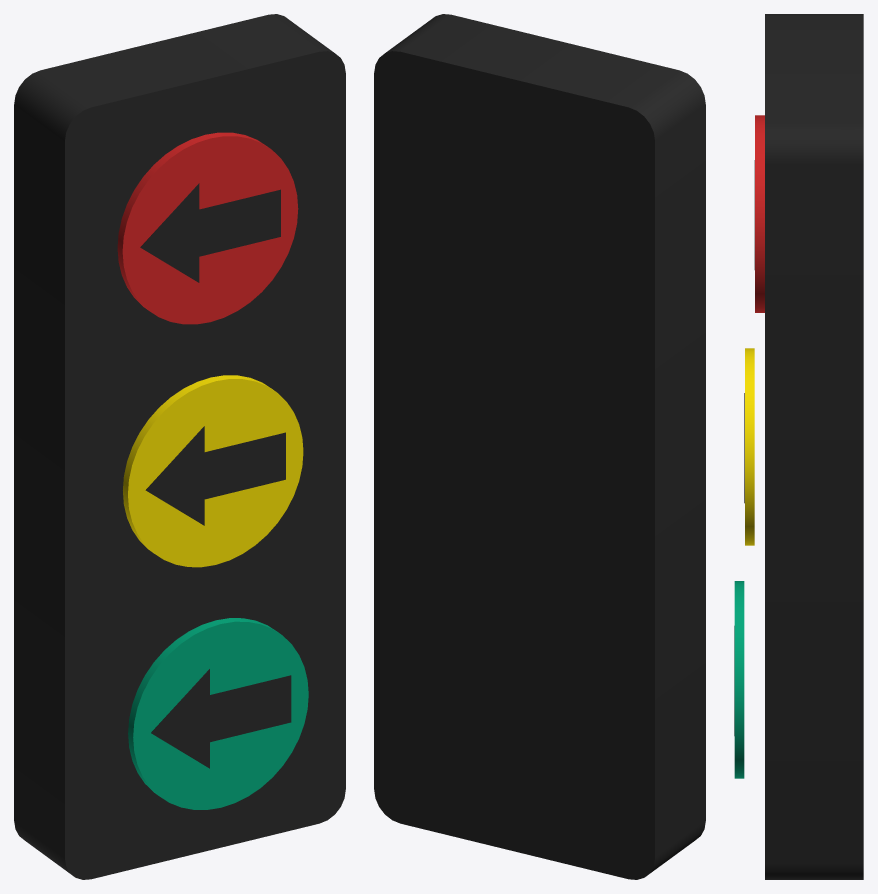
The picture shows the model from 3 angles, left to right: view 1: azimuth 30°, elevation 25°; view 2: azimuth 150°, elevation 25°; view 3: azimuth 270°, elevation 25°; orthographic projection. The views are drawn at different scales.
Visible parts, largest first — view 1: R14tg_r00, R14tg_d276, R14tg_d250, R14tg_d302, R14tg_s275, R14tg_s327, R14tg_s301; view 2: R14tg_r00; view 3: R14tg_r00, R14tg_d302, R14tg_d250, R14tg_d276.
Part boxes in pixels (x1=…): R14tg_r00: x1=14, y1=14, x2=345, y2=879; R14tg_d276: x1=123, y1=375, x2=303, y2=567; R14tg_d250: x1=117, y1=132, x2=298, y2=324; R14tg_d302: x1=128, y1=618, x2=308, y2=809; R14tg_s275: x1=140, y1=183, x2=280, y2=282; R14tg_s327: x1=151, y1=669, x2=291, y2=768; R14tg_s301: x1=145, y1=426, x2=285, y2=525; R14tg_r00: x1=374, y1=14, x2=705, y2=879; R14tg_r00: x1=765, y1=14, x2=863, y2=879; R14tg_d302: x1=734, y1=581, x2=744, y2=778; R14tg_d250: x1=755, y1=115, x2=764, y2=312; R14tg_d276: x1=745, y1=348, x2=754, y2=545.
Size of the model in its own units: 0.32 by 0.84 by 0.1312.
